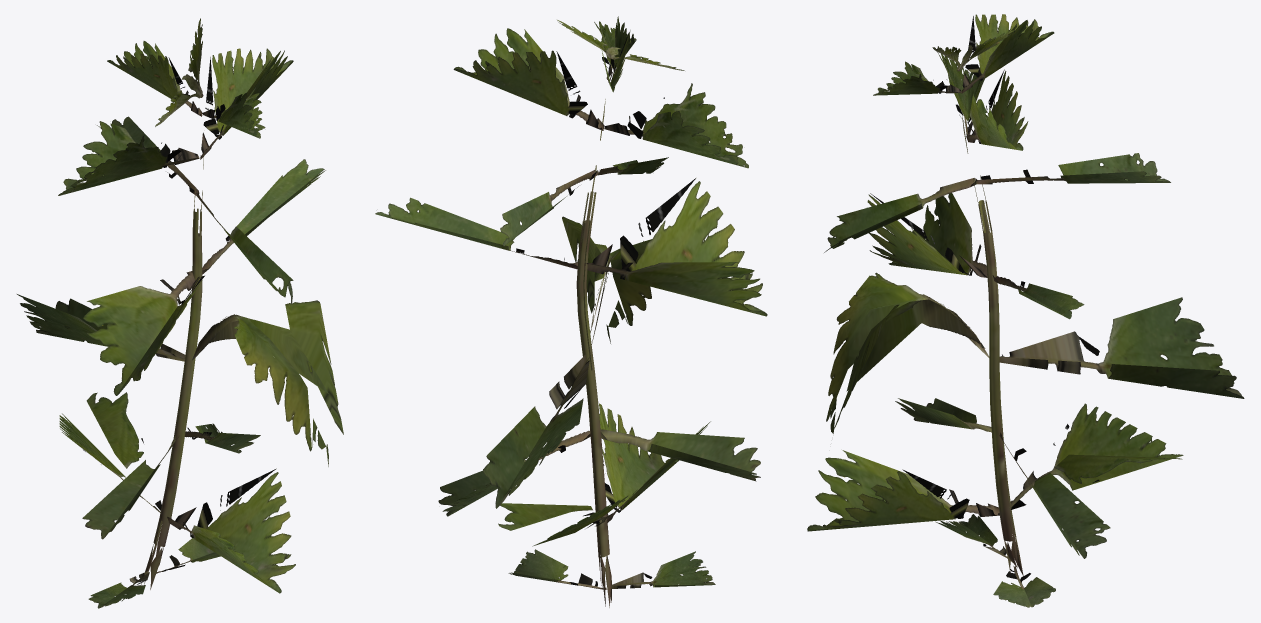
File: Nettle Mid.glb
The picture shows the model from 3 angles, left to right: view 1: azimuth 30°, elevation 25°; view 2: azimuth 150°, elevation 25°; view 3: azimuth 270°, elevation 25°; orthographic projection. The views are drawn at different scales.
Visible parts, largest first — view 1: Nettle Mid; view 2: Nettle Mid; view 3: Nettle Mid.
Boxes of the visible parts, bbox=[...] form: Nettle Mid: bbox=[17, 18, 343, 608]; Nettle Mid: bbox=[375, 16, 767, 607]; Nettle Mid: bbox=[807, 14, 1244, 607].
Bounding box in the file's own units: 0.5379 × 0.9 × 0.6218.
1 material, 1 textured.
